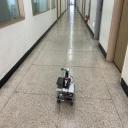cart: (56, 78, 74, 106)
